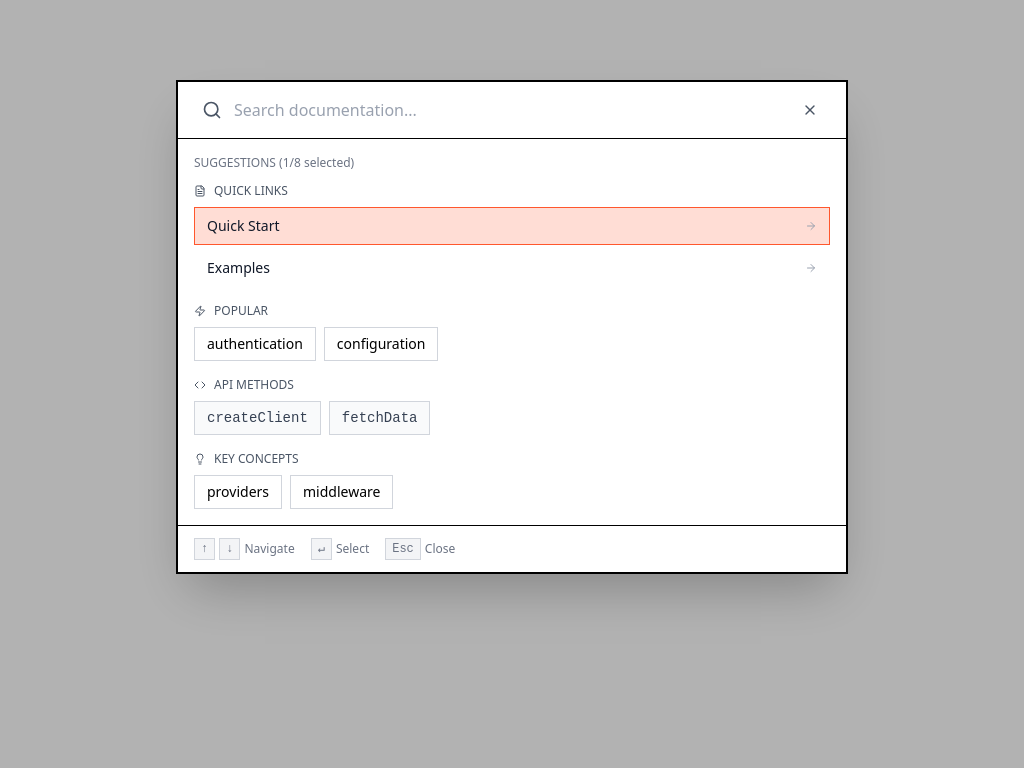
Test: SearchModal › Search Functionality › should highlight matching text in results
This screenshot has width=1024, height=768.
Type "api" into the field with placeholder "Search documentation...". click: (510, 110)
box: 234,98 -> 786,122
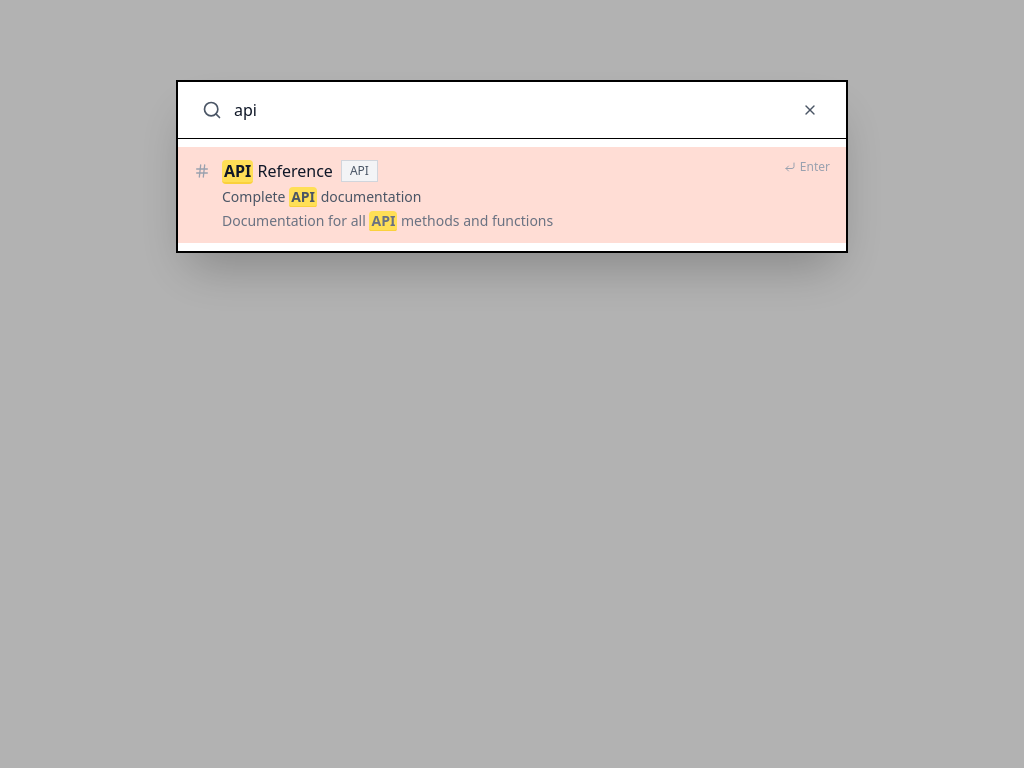
Result: the 1st text "API" is shown at 222,160 -> 253,184
